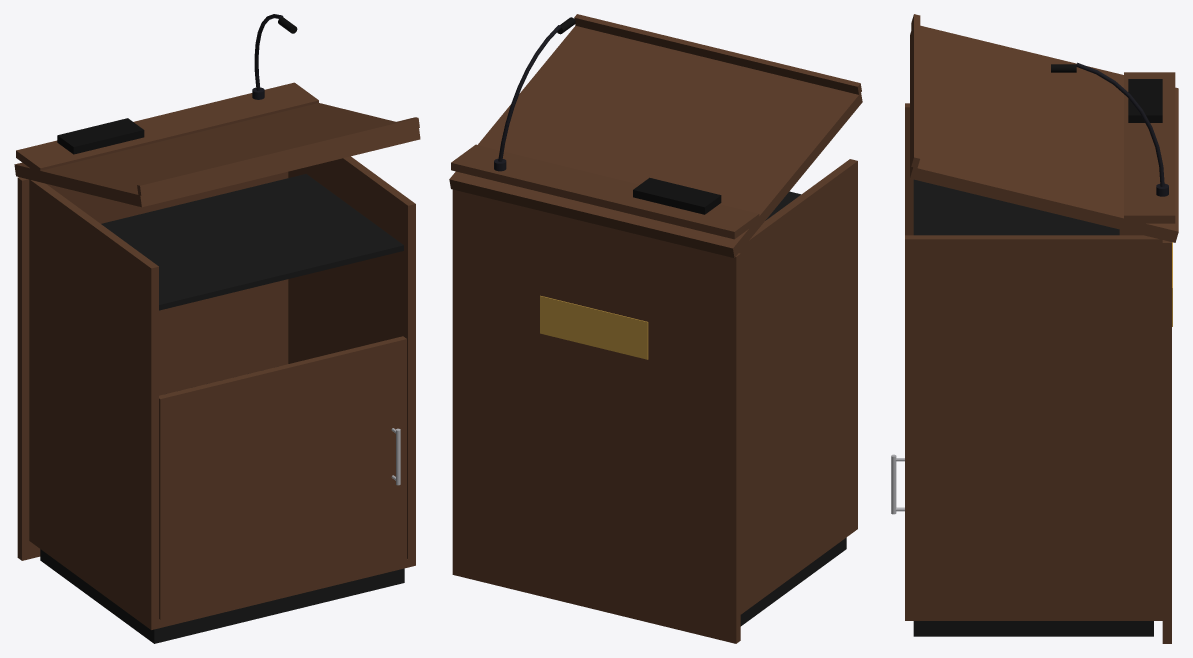
Rendered from 076_lecture_podium_lectern.glb.
3 renders of one model, left to right at view 1: azimuth 30°, elevation 25°; view 2: azimuth 150°, elevation 25°; view 3: azimuth 270°, elevation 25°, orthographic. The views are drawn at different scales.
Parts seen in each view (by area): view 1: 008_door_panel, 000_carcass_side_l, 014_pull_out_keyboard_shelf, 001_carcass_side_r, 015_sloped_reading_top, 003_carcass_back_panel, 017_top_shelf_flat, 004_plinth, 005_audience_front_panel, 016_book_stop, 002_carcass_bottom, 021_touch_control_panel; view 2: 005_audience_front_panel, 015_sloped_reading_top, 000_carcass_side_l, 017_top_shelf_flat, 006_logo_inlay, 016_book_stop, 021_touch_control_panel, 004_plinth, 019_mic_gooseneck; view 3: 001_carcass_side_r, 015_sloped_reading_top, 014_pull_out_keyboard_shelf, 017_top_shelf_flat, 005_audience_front_panel, 004_plinth, 016_book_stop, 021_touch_control_panel, 000_carcass_side_l, 019_mic_gooseneck.
Part boxes in pixels (bbox=[...]): 008_door_panel: bbox=[159, 336, 406, 619]; 000_carcass_side_l: bbox=[29, 179, 158, 629]; 014_pull_out_keyboard_shelf: bbox=[101, 174, 403, 310]; 001_carcass_side_r: bbox=[288, 156, 415, 567]; 015_sloped_reading_top: bbox=[14, 103, 420, 207]; 003_carcass_back_panel: bbox=[46, 171, 288, 395]; 017_top_shelf_flat: bbox=[16, 82, 318, 172]; 004_plinth: bbox=[40, 549, 404, 643]; 005_audience_front_panel: bbox=[17, 177, 40, 560]; 016_book_stop: bbox=[137, 117, 419, 195]; 002_carcass_bottom: bbox=[159, 559, 407, 628]; 021_touch_control_panel: bbox=[57, 118, 144, 154]; 005_audience_front_panel: bbox=[452, 189, 740, 643]; 015_sloped_reading_top: bbox=[449, 26, 862, 257]; 000_carcass_side_l: bbox=[739, 159, 857, 614]; 017_top_shelf_flat: bbox=[451, 144, 759, 239]; 006_logo_inlay: bbox=[540, 295, 648, 359]; 016_book_stop: bbox=[574, 14, 861, 94]; 021_touch_control_panel: bbox=[633, 177, 721, 214]; 004_plinth: bbox=[740, 537, 846, 626]; 019_mic_gooseneck: bbox=[498, 25, 561, 161]; 001_carcass_side_r: bbox=[905, 235, 1162, 620]; 015_sloped_reading_top: bbox=[910, 25, 1178, 242]; 014_pull_out_keyboard_shelf: bbox=[913, 179, 1119, 235]; 017_top_shelf_flat: bbox=[1124, 72, 1175, 223]; 005_audience_front_panel: bbox=[1162, 240, 1171, 643]; 004_plinth: bbox=[913, 621, 1153, 636]; 016_book_stop: bbox=[911, 14, 920, 168]; 021_touch_control_panel: bbox=[1128, 79, 1162, 122]; 000_carcass_side_l: bbox=[905, 103, 1142, 235]; 019_mic_gooseneck: bbox=[1076, 62, 1164, 186].
Bounding box in the file's own units: 0.79 × 1.41 × 0.6698.
